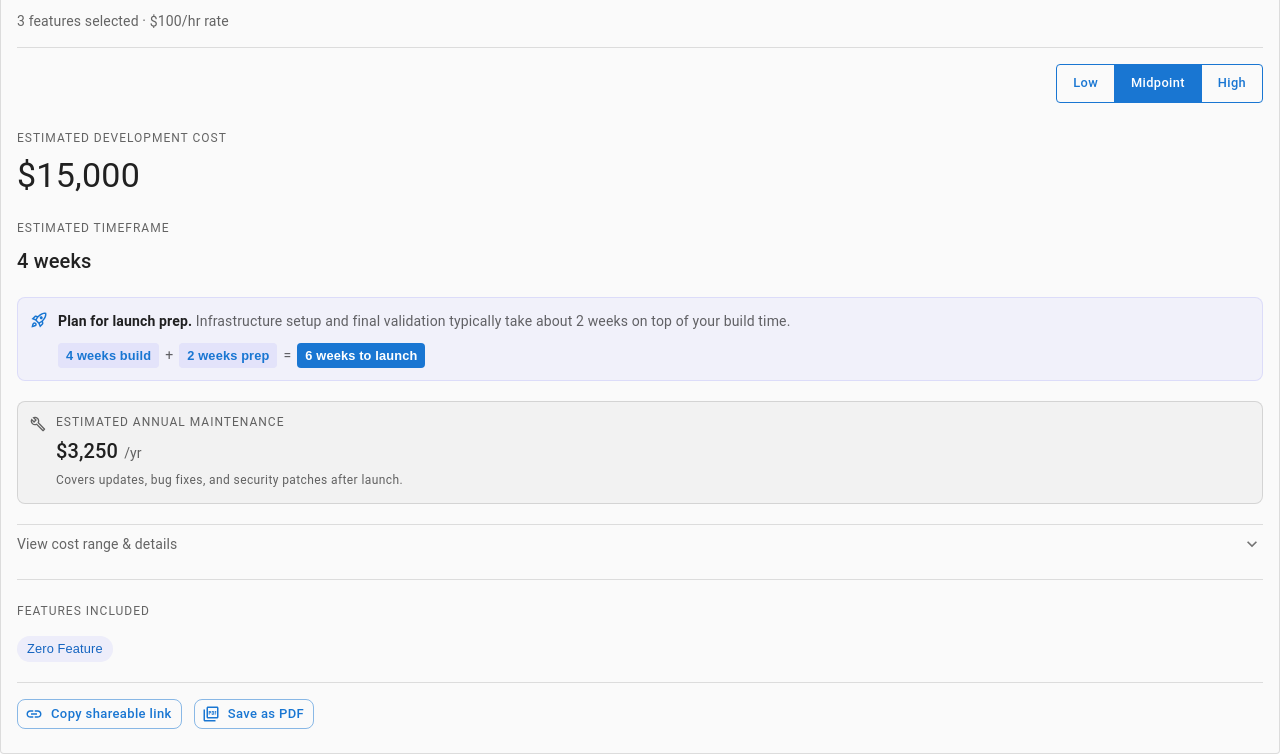
Test: EstimateResults › zero-hour features (line 369 — totalAvg === 0 branch) › shows 0% when all features have zero hours
Note: Expand details to render the hours breakdown
Click the text "View cost range & details" at {"x": 95, "y": 544}, box [13,534,177,554]
(page scrolled)
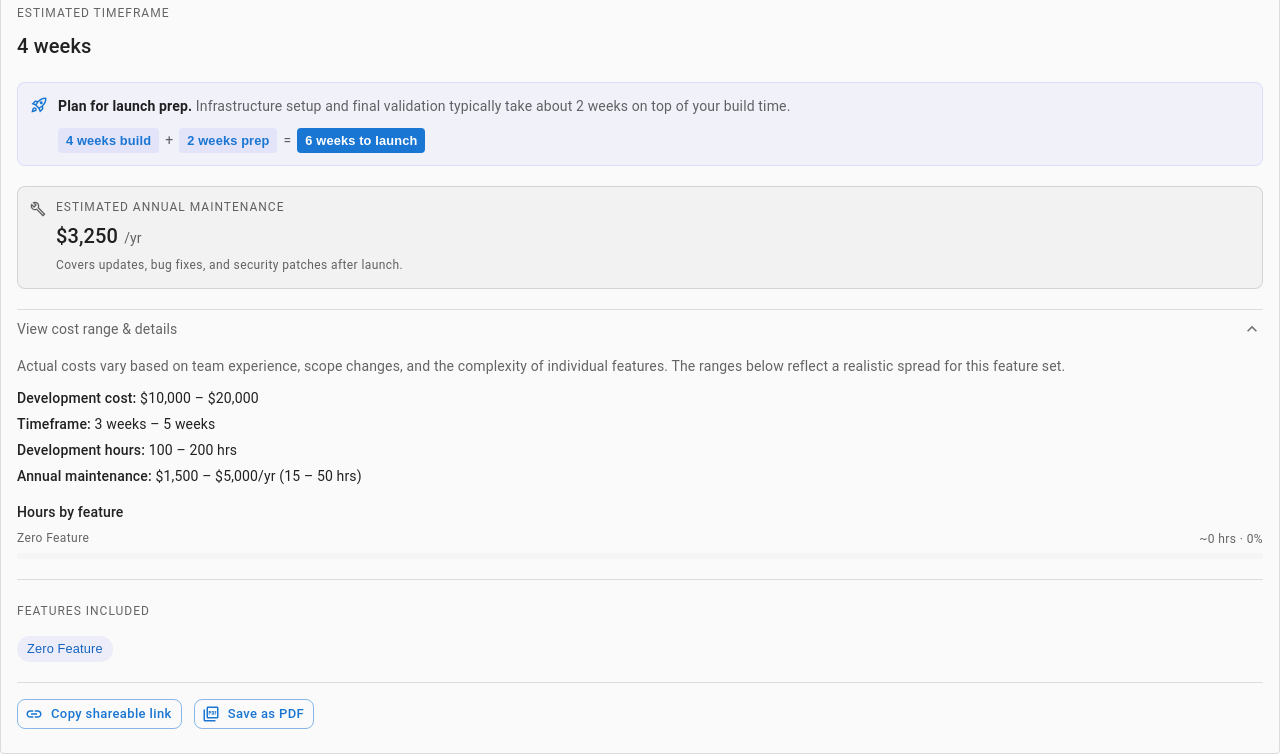
Expected: the text "~0 hrs · 0%" is shown, [1199,530,1263,550]
